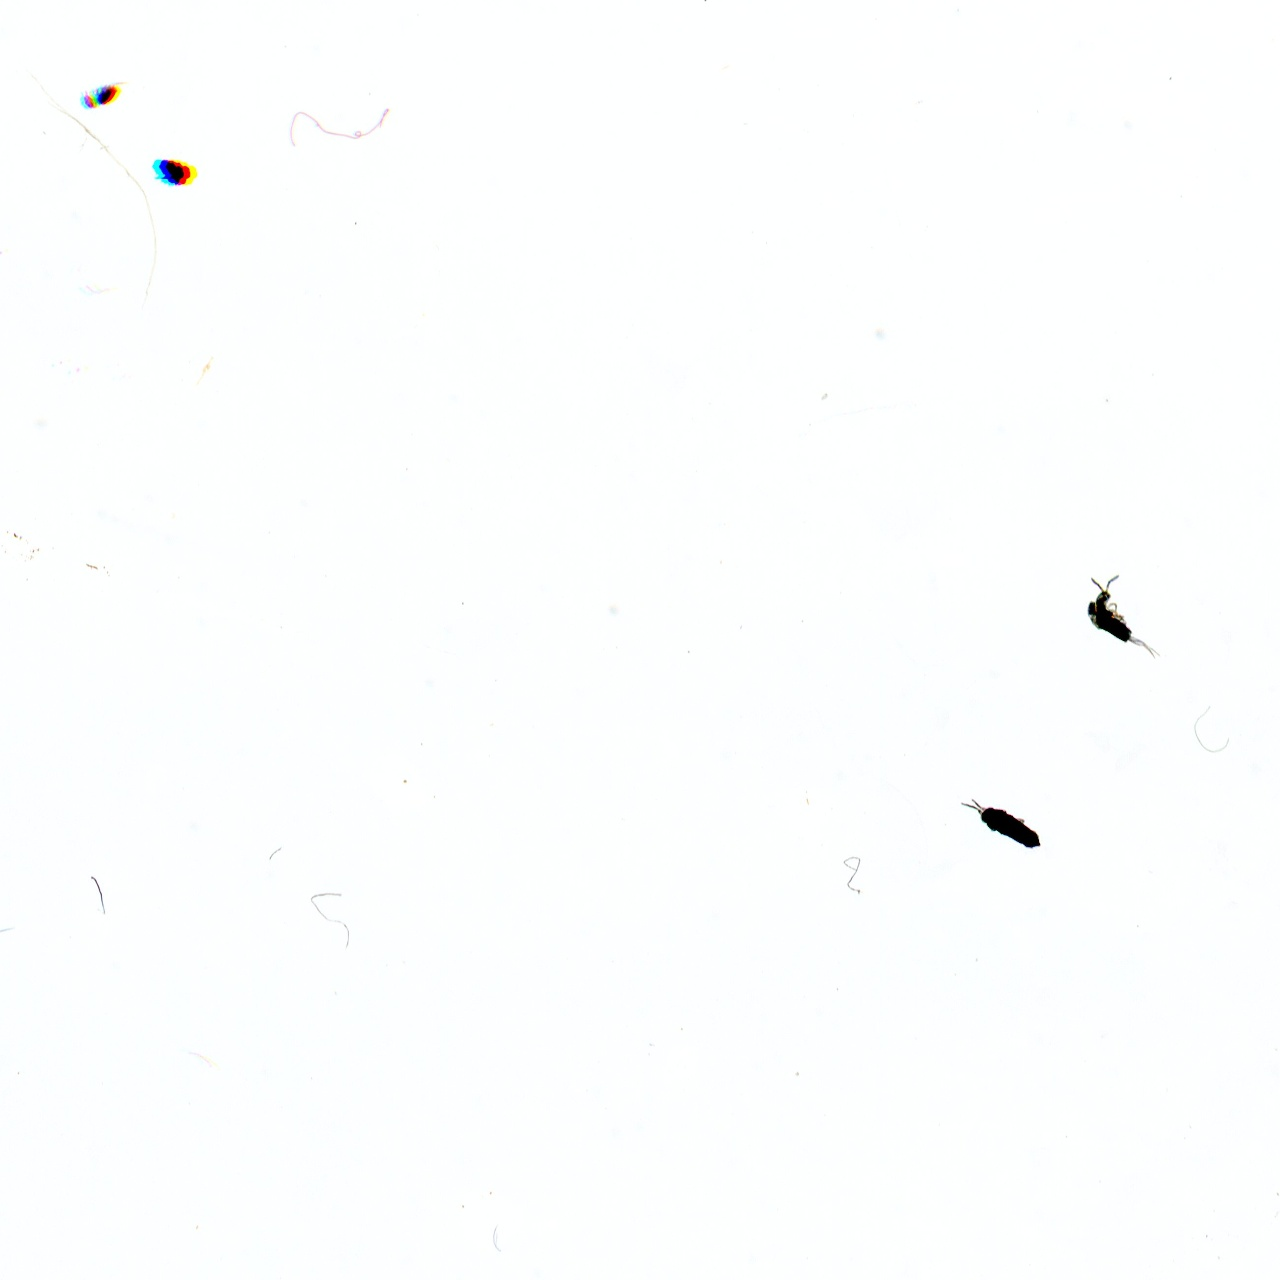arthropod: (945, 778, 1082, 876), (1075, 568, 1170, 669), (78, 75, 128, 112)
